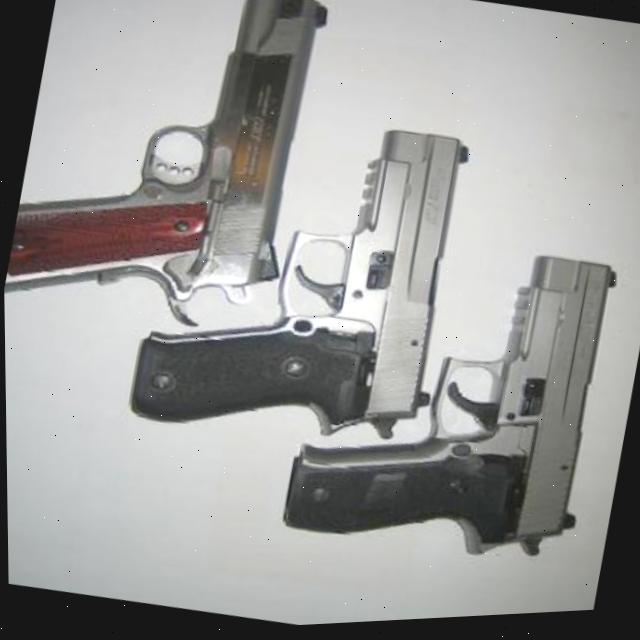gun: (120, 89, 479, 473), (274, 215, 628, 590), (0, 0, 338, 350)
